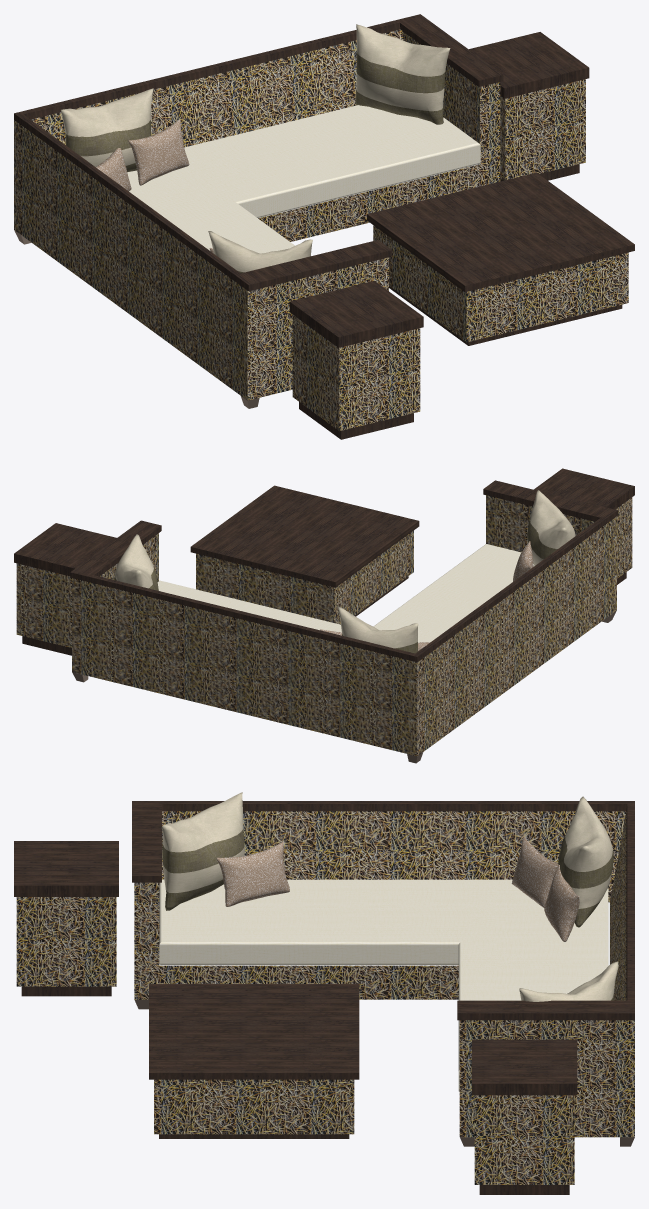
The model's file is furniture 4.dae.
The picture shows the model from 3 angles, top to bottom: view 1: azimuth 30°, elevation 25°; view 2: azimuth 150°, elevation 25°; view 3: azimuth 270°, elevation 25°; orthographic projection. The views are drawn at different scales.
Parts seen in each view (by area): view 1: group_4 (×2), group_3 (×3), Component_1, group_2 (×3), Group_582 (×7), group_1 (×2), Component_3 (×2); view 2: group_4 (×2), group_3 (×2), Component_1, group_1 (×2), Group_582 (×4), group_2 (×2), Component_3; view 3: group_4 (×2), Component_1, group_3 (×3), group_1 (×3), group_2 (×3), Group_582 (×8), Component_3 (×3).
Part boxes in pixels (bbox=[...]): group_4 (×2): bbox=[14, 14, 503, 400]; group_3 (×3): bbox=[367, 172, 634, 345]; Component_1: bbox=[127, 105, 480, 253]; group_2 (×3): bbox=[289, 281, 423, 439]; Group_582 (×7): bbox=[61, 24, 450, 272]; group_1 (×2): bbox=[469, 32, 589, 180]; Component_3 (×2): bbox=[96, 119, 189, 191]; group_4 (×2): bbox=[70, 480, 617, 756]; group_3 (×2): bbox=[190, 485, 419, 624]; Component_1: bbox=[157, 544, 534, 642]; group_1 (×2): bbox=[14, 523, 116, 647]; Group_582 (×4): bbox=[114, 490, 575, 648]; group_2 (×2): bbox=[534, 468, 634, 578]; Component_3: bbox=[513, 541, 533, 581]; group_4 (×2): bbox=[132, 801, 634, 1137]; Component_1: bbox=[159, 879, 608, 1091]; group_3 (×3): bbox=[149, 984, 359, 1138]; group_1 (×3): bbox=[472, 1039, 577, 1194]; group_2 (×3): bbox=[14, 841, 118, 996]; Group_582 (×8): bbox=[161, 792, 618, 1001]; Component_3 (×3): bbox=[216, 836, 579, 941].
Bounding box in the file's own units: 97.2 × 97.67 × 26.52.
9 materials, 6 textured.
